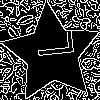L: (26, 28, 74, 60)
